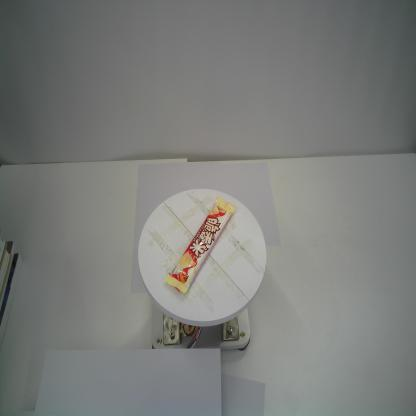Chocolate: (163, 195, 235, 294)
